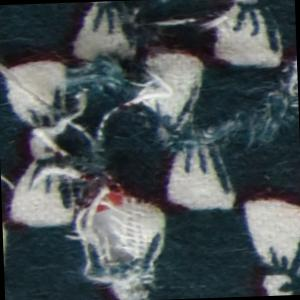Damage: (1, 1, 300, 165), (60, 155, 164, 300)
